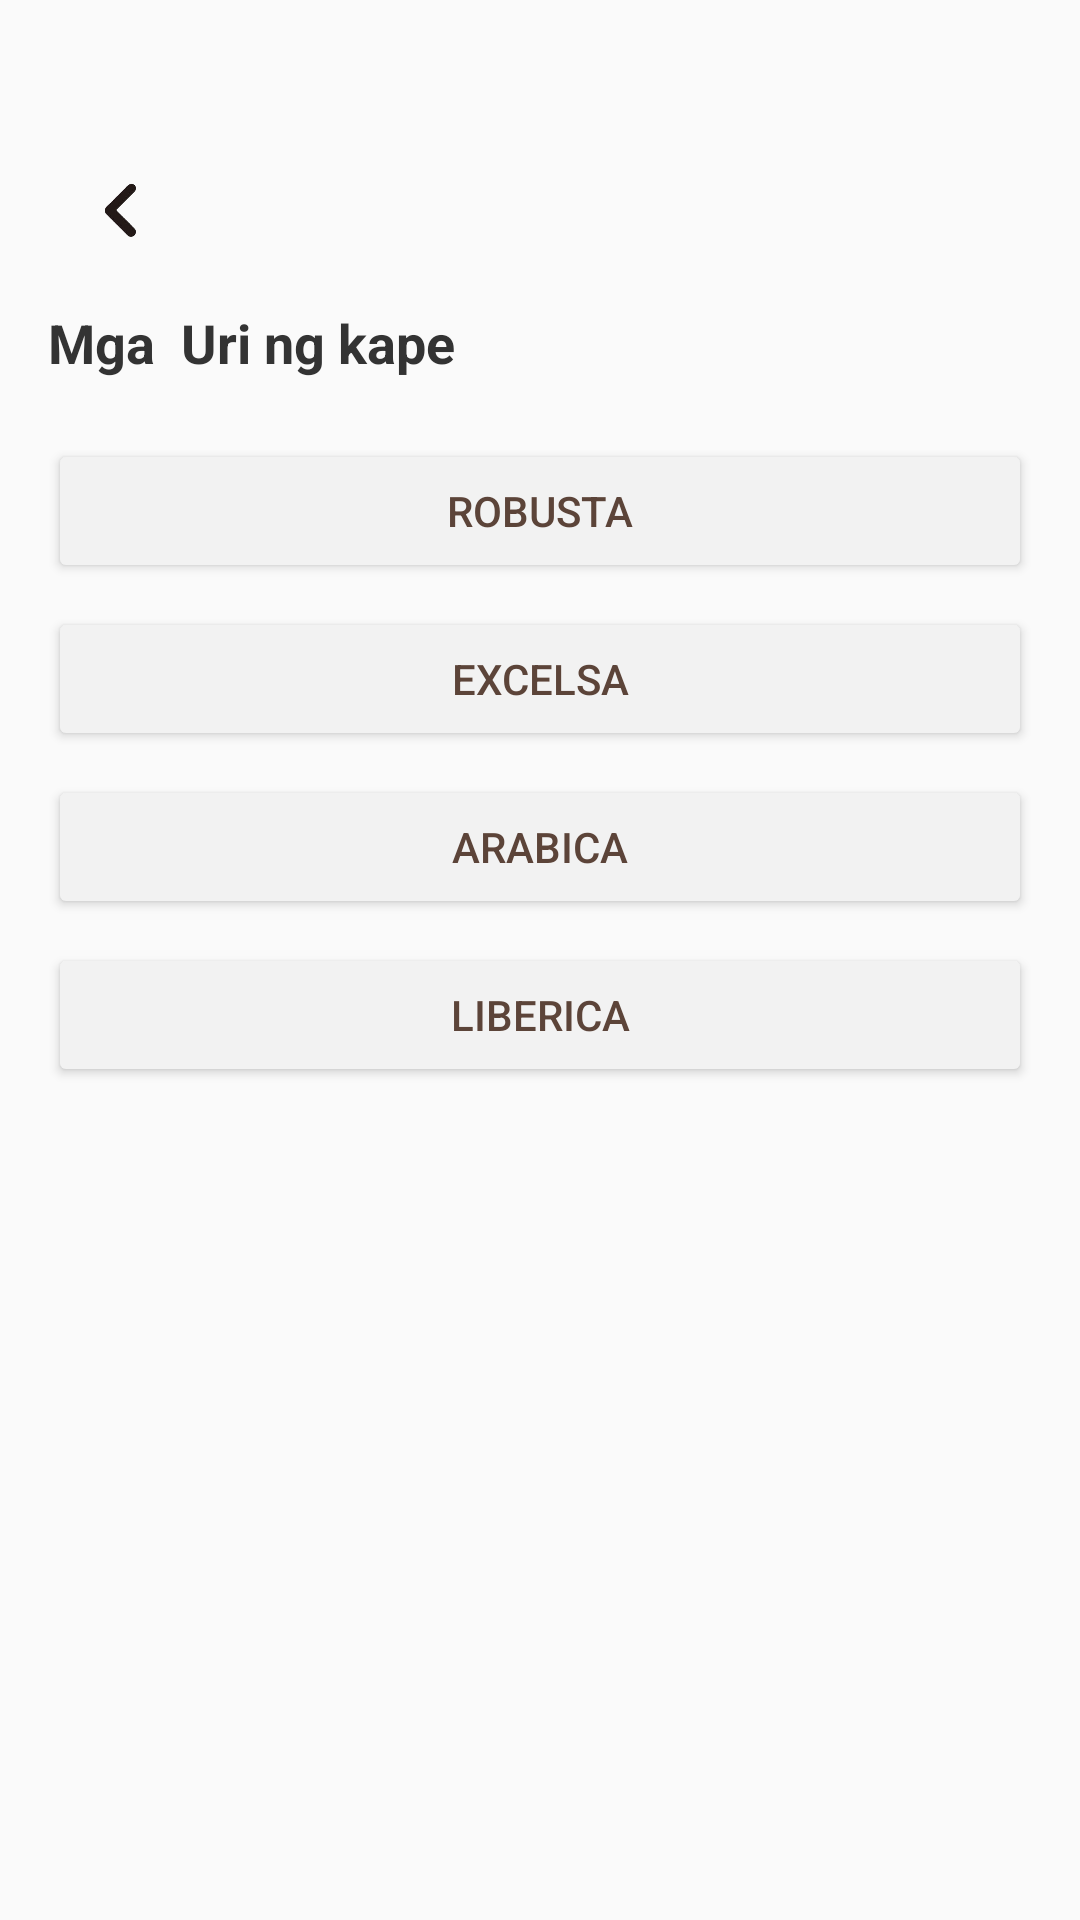

Where icons sit on this 1080px x 1920px app screen, as (x1, y1, x2, y2):
back: (105, 184, 136, 237)
